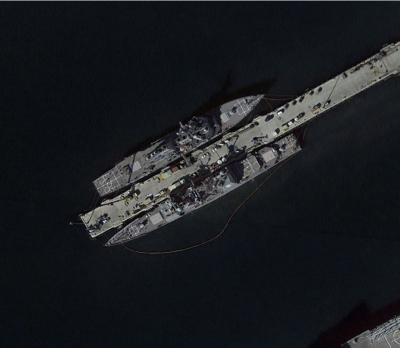boat: (104, 132, 306, 249), (92, 92, 268, 196)
